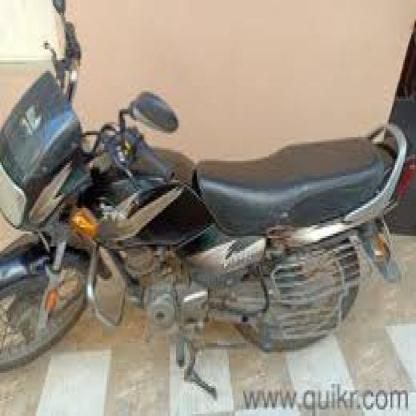bike: (3, 65, 411, 401)
